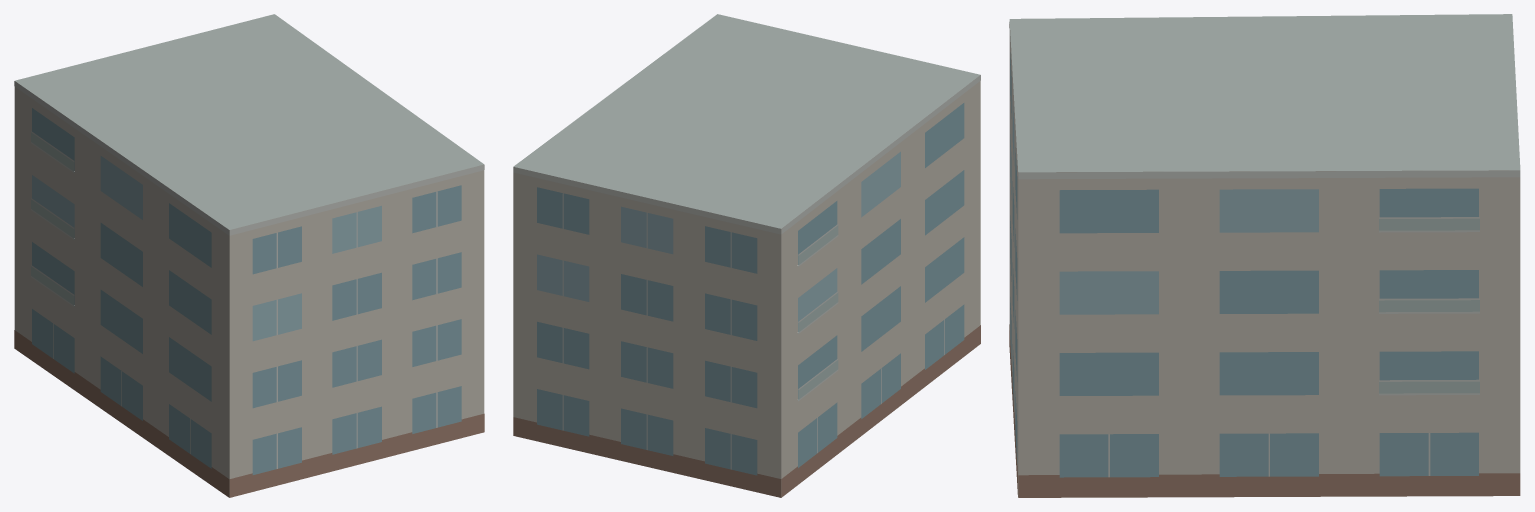
The model's file is survey-upis-32504067.glb.
3 renders of one model, left to right at view 1: azimuth 30°, elevation 25°; view 2: azimuth 150°, elevation 25°; view 3: azimuth 270°, elevation 25°, orthographic. The views are drawn at different scales.
Parts seen in each view (by area): view 1: survey-upis-32504067.tmp; view 2: survey-upis-32504067.tmp; view 3: survey-upis-32504067.tmp.
Part boxes in pixels (bbox=[...]): survey-upis-32504067.tmp: bbox=[14, 14, 484, 497]; survey-upis-32504067.tmp: bbox=[513, 14, 980, 497]; survey-upis-32504067.tmp: bbox=[1009, 14, 1520, 497].
Bounding box in the file's own units: 11.9 × 11.4 × 16.22.
